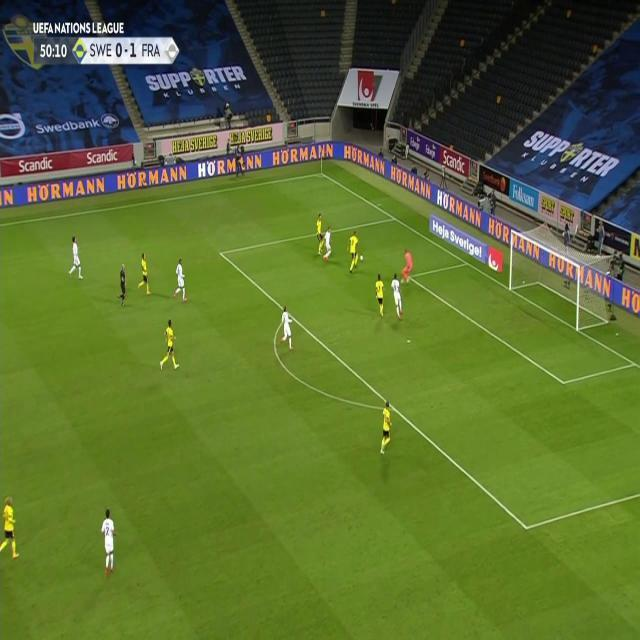ball: (360, 255, 365, 262)
goalkeeper: (400, 247, 415, 283)
player: (0, 492, 20, 562), (100, 508, 119, 579), (159, 318, 181, 373), (378, 399, 394, 455), (276, 305, 294, 351), (389, 271, 404, 321), (68, 236, 84, 281), (173, 258, 188, 303), (347, 229, 362, 273), (137, 251, 152, 295), (374, 273, 387, 319), (314, 212, 327, 256), (321, 227, 334, 261)
referee: (117, 262, 128, 308)
